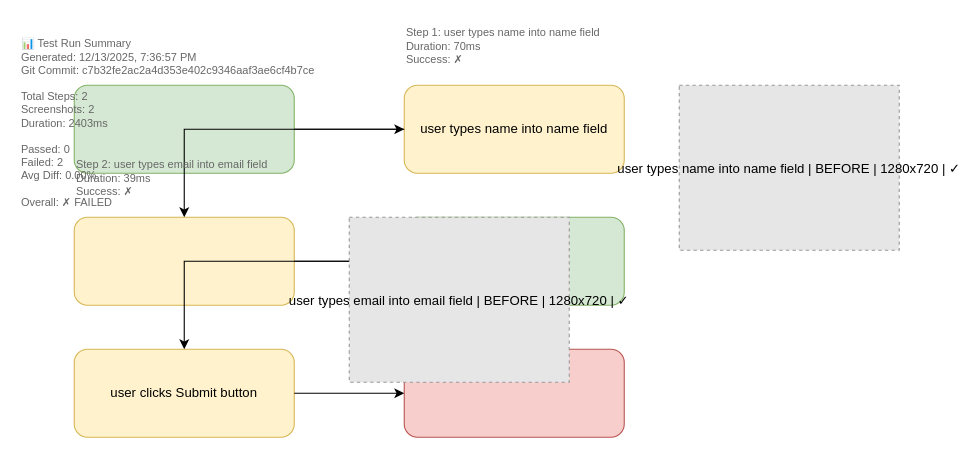
This 979x457 diagram has some shape labels left out. Grey dashed boxes stand in for pictures. The box of each missing label's shape, as (x1, y1, x2, y2) in pixels:
Contact Form: (73, 84, 294, 173)
Form validation error shown: (403, 348, 624, 437)
user types email into email field: (73, 216, 294, 305)
